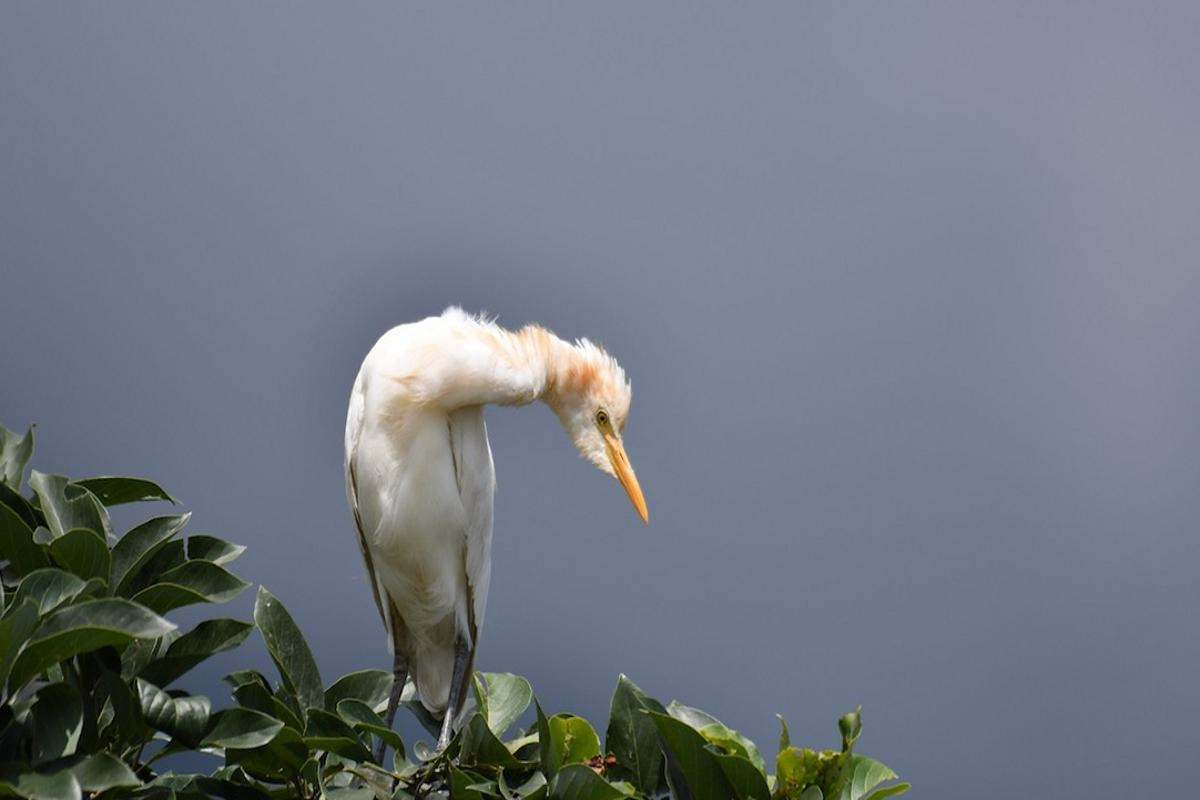egret: (338, 293, 696, 746)
